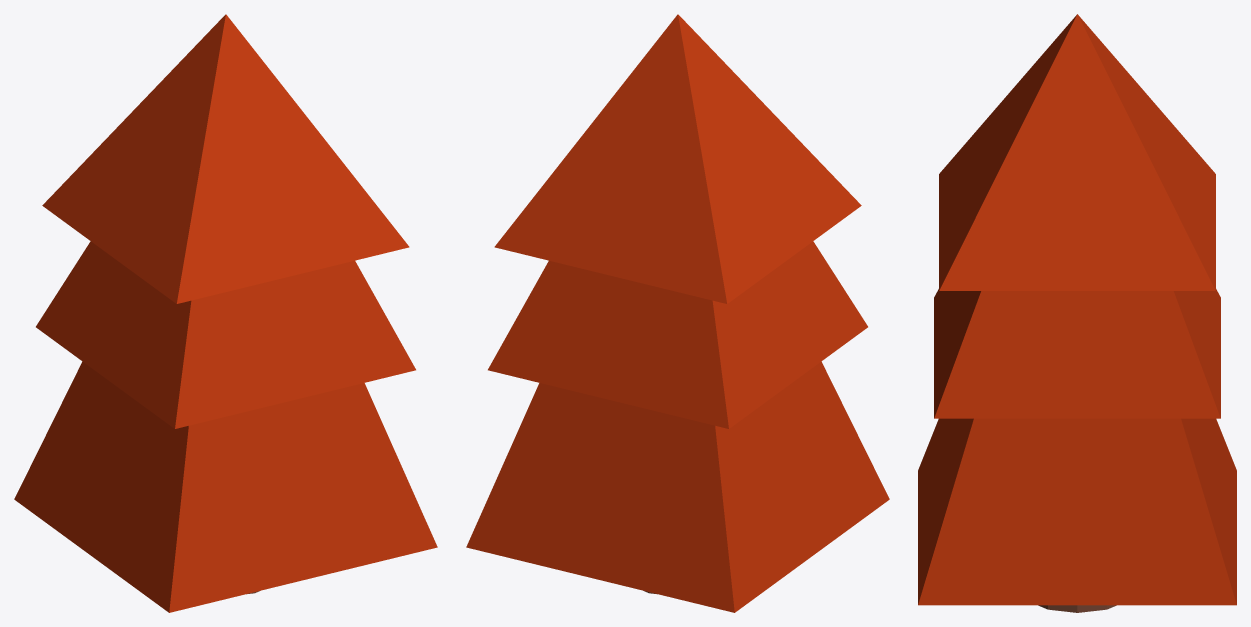
File: Tree_18_summer_red_mat.fbx
3 views of the same model, side by side, from view 1: azimuth 30°, elevation 25°; view 2: azimuth 150°, elevation 25°; view 3: azimuth 270°, elevation 25° (orthographic). The views are drawn at different scales.
Visible parts, largest first — view 1: Tree_18_summer_red_mat; view 2: Tree_18_summer_red_mat; view 3: Tree_18_summer_red_mat.
Part boxes in pixels (x1,y1,x2,y2): Tree_18_summer_red_mat: (14, 14, 437, 612); Tree_18_summer_red_mat: (466, 14, 889, 612); Tree_18_summer_red_mat: (918, 14, 1236, 612).
Bounding box in the file's own units: 95.96 × 191 × 95.96.
